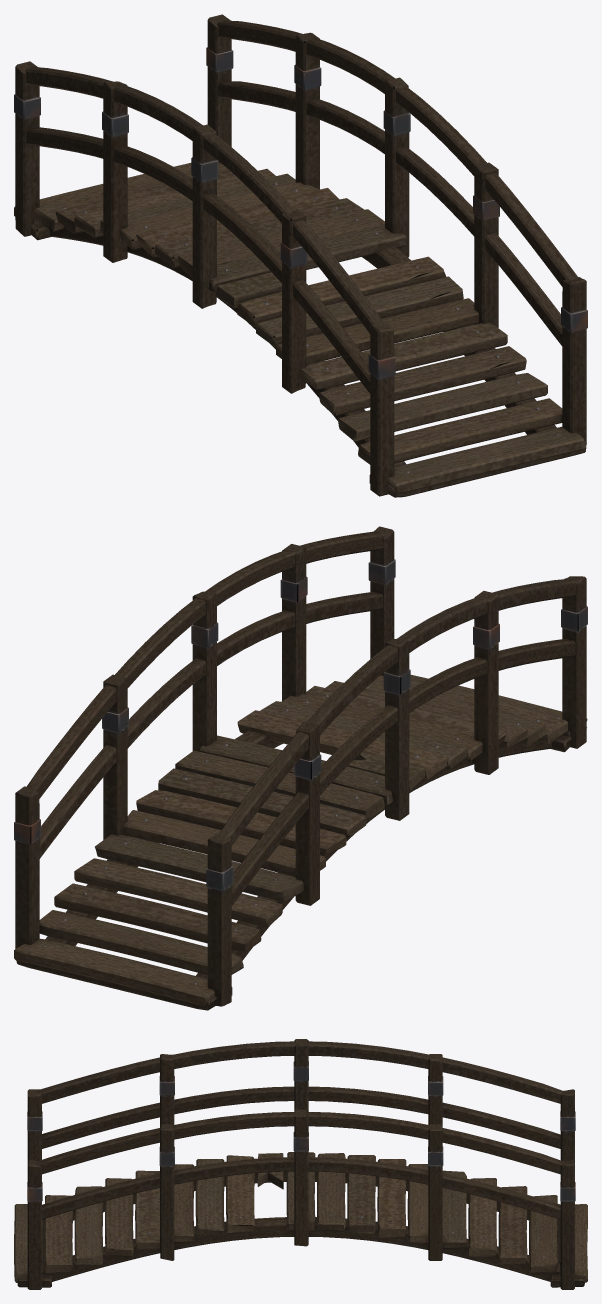
File: bridge.glb
The picture shows the model from 3 angles, top to bottom: view 1: azimuth 30°, elevation 25°; view 2: azimuth 150°, elevation 25°; view 3: azimuth 270°, elevation 25°; orthographic projection. The views are drawn at different scales.
Visible parts, largest first — view 1: bridge; view 2: bridge; view 3: bridge.
Part boxes in pixels (<box>): bridge: <box>14,14,587,497</box>; bridge: <box>14,526,587,1010</box>; bridge: <box>14,1039,587,1289</box>.
Bounding box in the file's own units: 0.949 × 1.01 × 2.99.
Materials: 1 (1 with a texture image).
